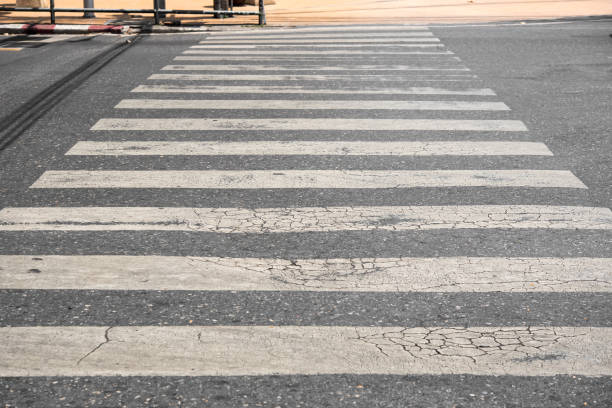zebracross: (128, 43, 524, 408)
